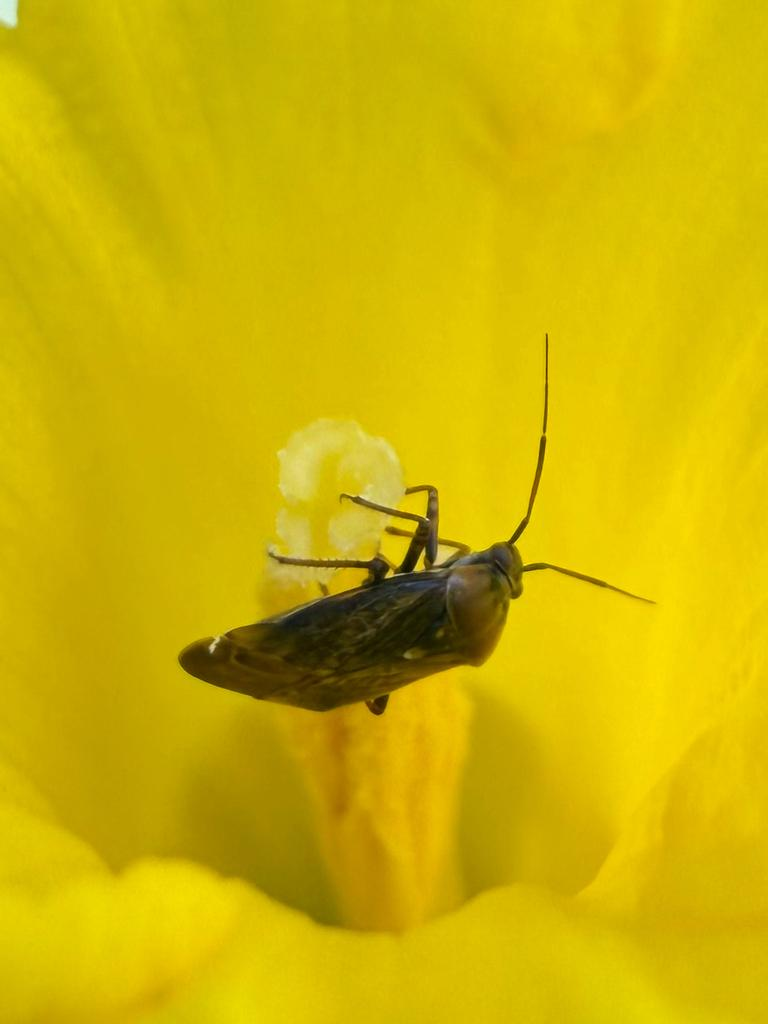plant_bugs: (116, 287, 710, 827)
